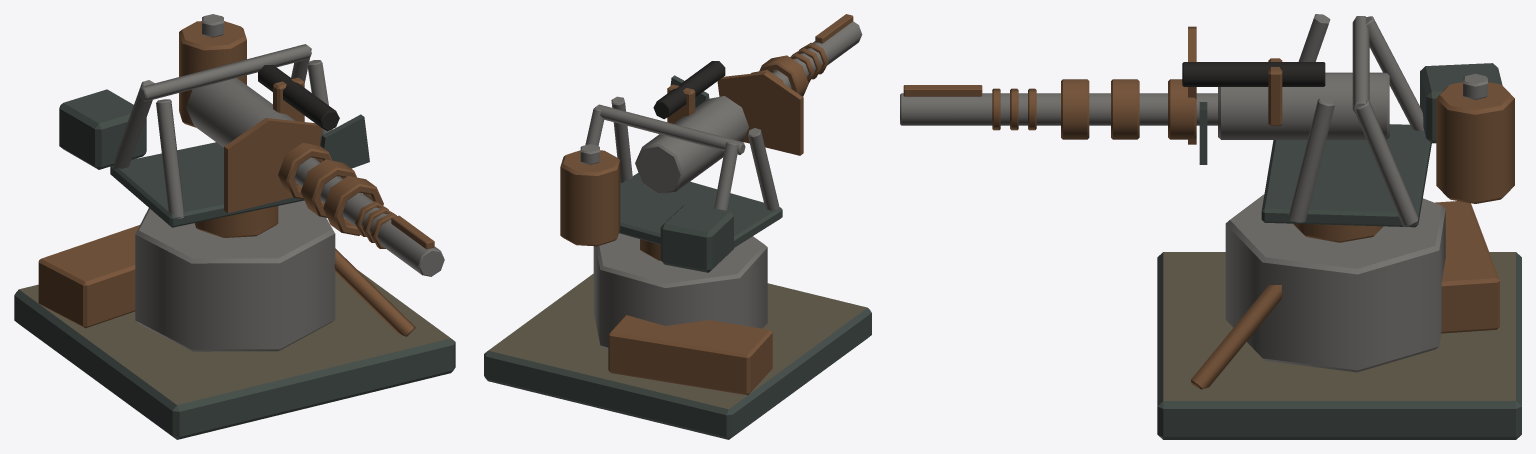
Rendered from R4W_Basic_LOD1.fbx.
3 views of the same model, side by side, from view 1: azimuth 30°, elevation 25°; view 2: azimuth 150°, elevation 25°; view 3: azimuth 270°, elevation 25° (orthographic). The views are drawn at different scales.
Parts seen in each view (by area): view 1: R4W_Basic_LOD1; view 2: R4W_Basic_LOD1; view 3: R4W_Basic_LOD1.
Boxes of the visible parts, x1,y1,x2,y2 form: R4W_Basic_LOD1: (14,14,455,439); R4W_Basic_LOD1: (484,14,871,439); R4W_Basic_LOD1: (900,14,1521,439).
Bounding box in the file's own units: 0.51 × 0.492 × 0.87.
